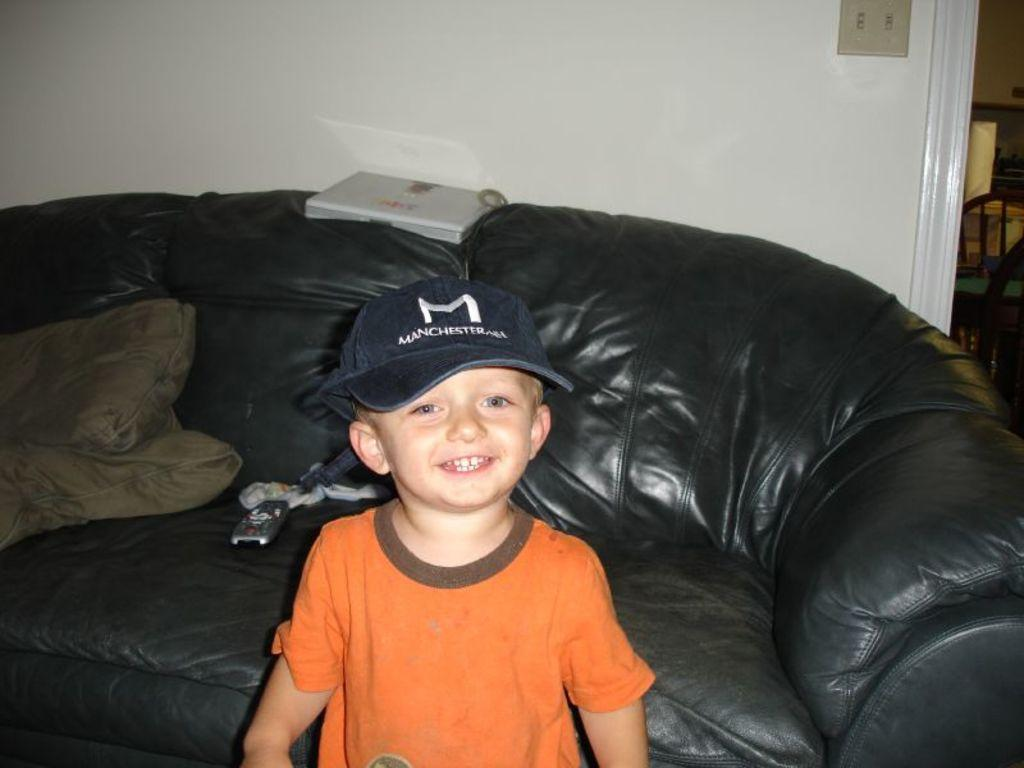Hat: (320, 276, 576, 424)
